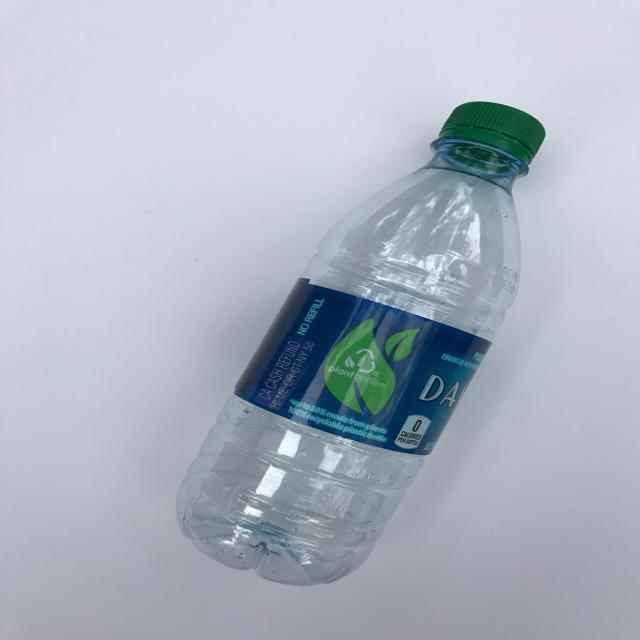plastic: (170, 100, 549, 584)
